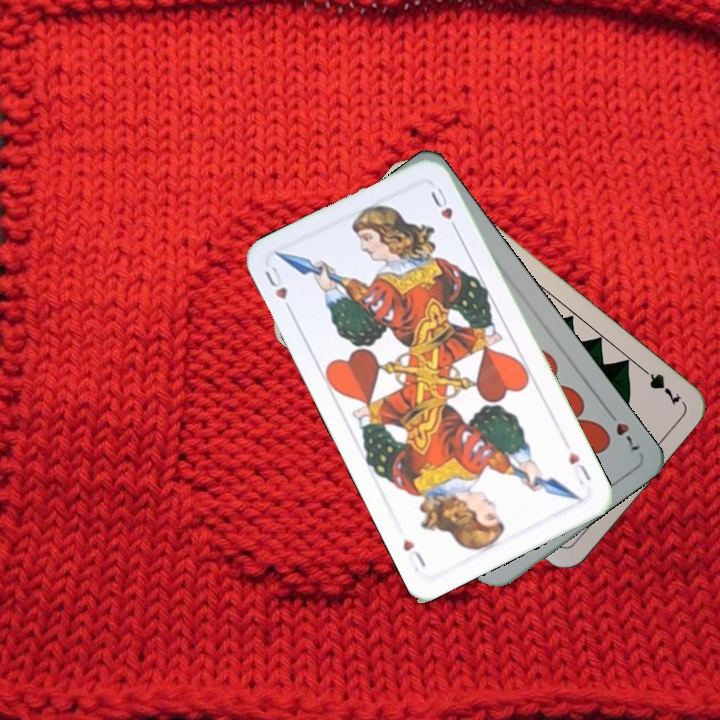G7: (634, 361, 685, 408)
H7: (602, 405, 643, 456)
HU: (260, 262, 296, 317), (564, 447, 594, 488)
